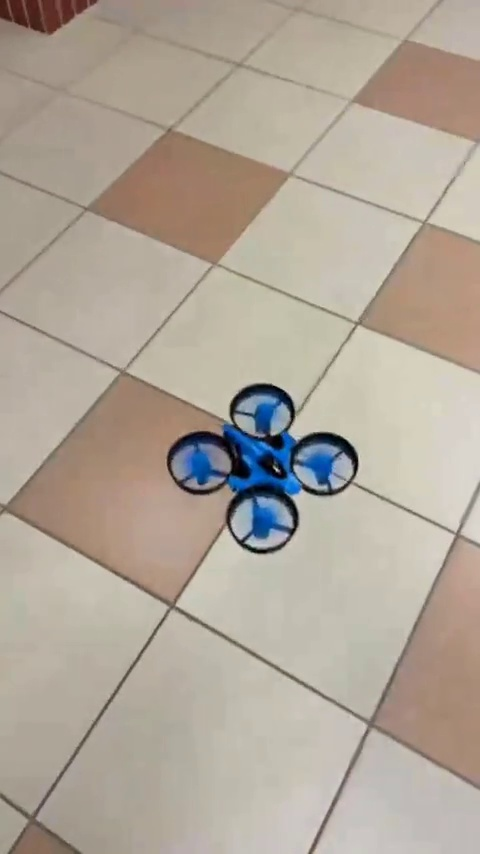drone: (167, 385, 358, 554)
